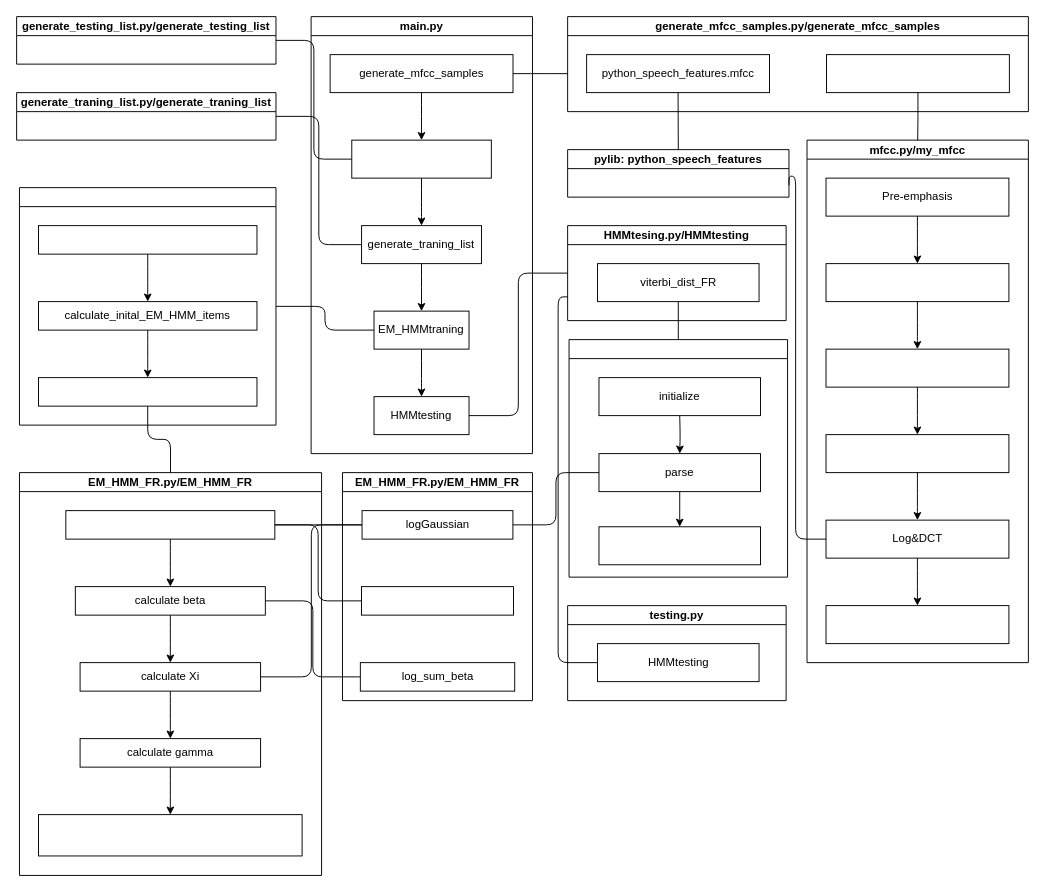
The diagram is 1045 pixels wide and 892 high, and some of its shapes have lost their labels. Each missing label, with the box of its shape:
calculate alpha: (65, 510, 275, 539)
calculate sum of mean_numerator, var_numerator, aij_numerator and denominator: (38, 814, 302, 856)
EM_HMM_FR: (38, 377, 257, 406)
EM_HMMtraning.py/EM_HMMtraning: (19, 187, 276, 425)
EM_initialization_model: (38, 225, 257, 254)
Energies: (825, 605, 1009, 644)
Framing&Windowing: (825, 263, 1009, 302)
generate_tesing_list: (351, 139, 491, 178)
log_sum_alpha: (361, 586, 513, 615)
Mel-filter bank: (825, 434, 1009, 473)
my_mfcc: (826, 54, 1009, 93)
optimal result: (598, 526, 760, 565)
STFT: (825, 348, 1009, 387)
viterbi_dist_FR.py/viterbi_dist_FR: (568, 339, 788, 577)
